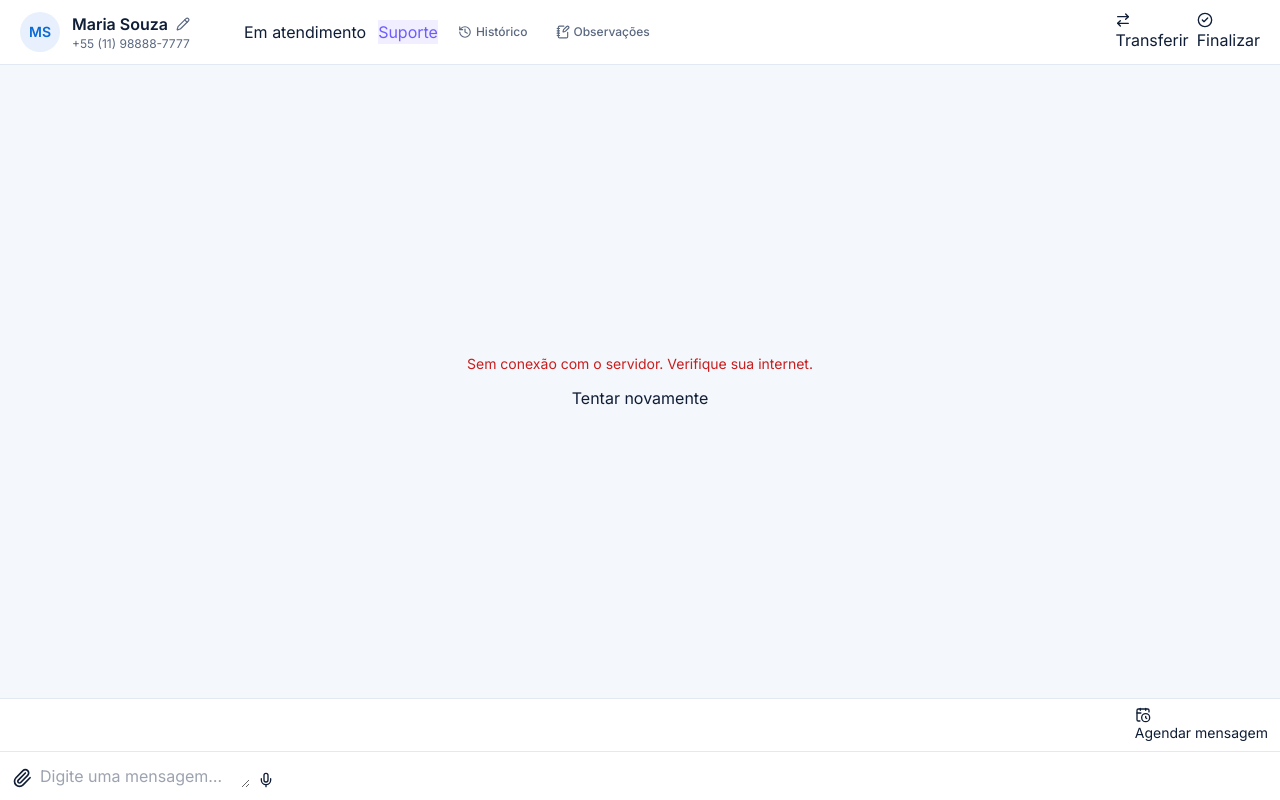
ChatPanel › shows the error and retries when the messages fail to load
Expected: the text "Sem conexão com o servidor. Verifique sua internet." is shown, 467,354 -> 813,374
Step 1. Click the button "Tentar novamente" → (640, 398), box 572,386 -> 708,410
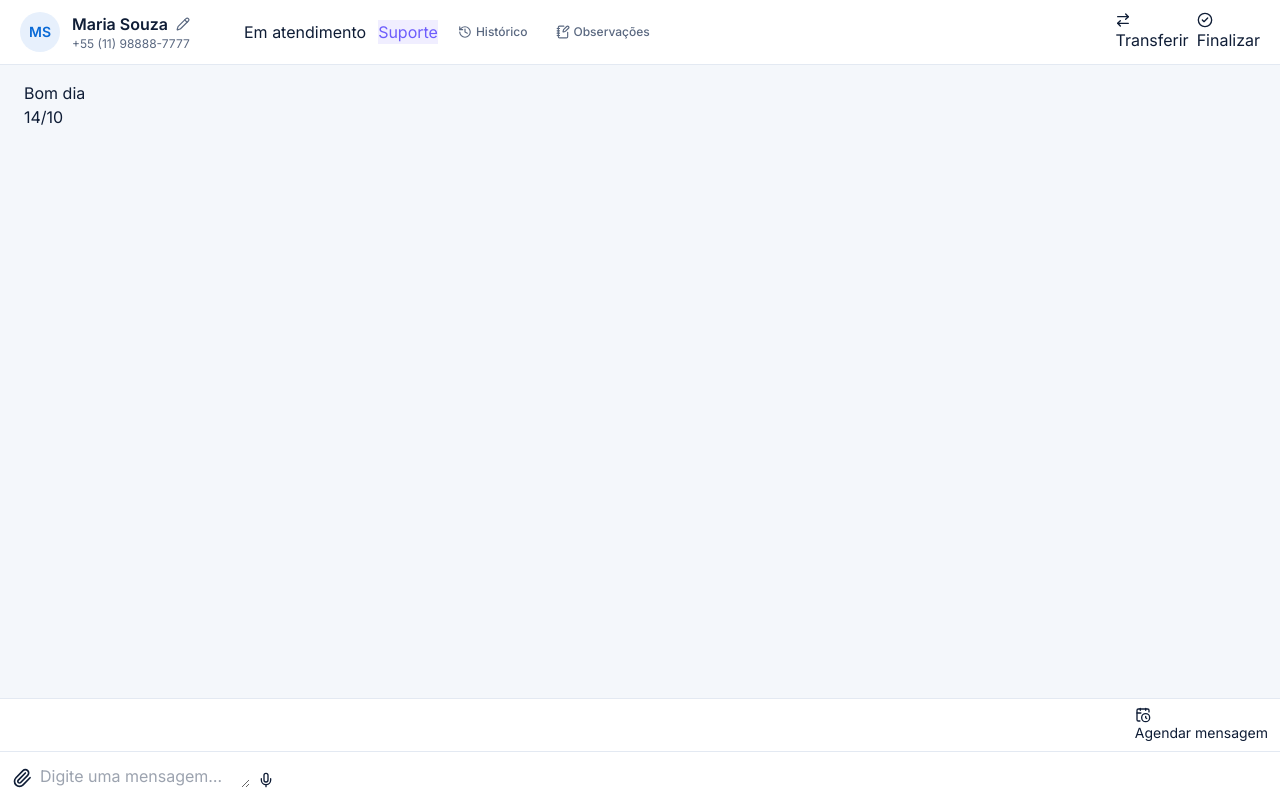
Result: the text "Bom dia" is shown at 24,83 -> 85,103
